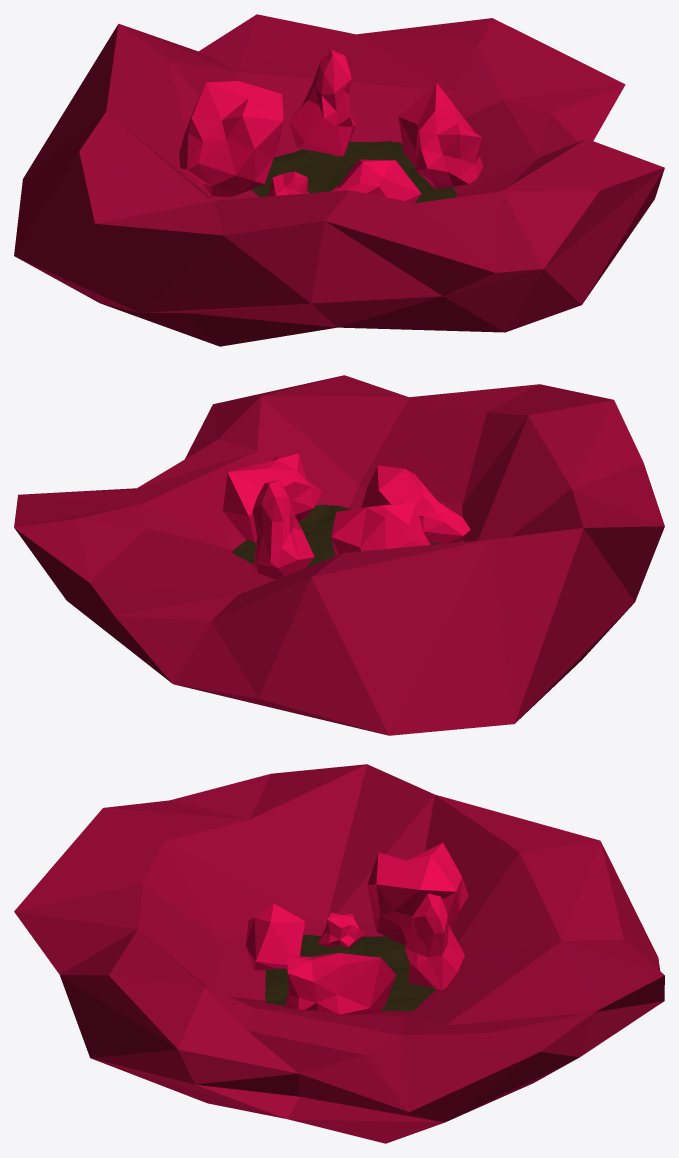
Rendered from stage1.fbx.
The picture shows the model from 3 angles, top to bottom: view 1: azimuth 30°, elevation 25°; view 2: azimuth 150°, elevation 25°; view 3: azimuth 270°, elevation 25°; orthographic projection. The views are drawn at different scales.
Visible parts, largest first — view 1: rock0outside, rock1, rock4, rock3, ground, rock2, rock5; view 2: rock0outside, rock4, rock3, rock1, rock2, ground; view 3: rock0outside, rock1, rock4, ground, rock3, rock2, rock5.
Boxes of the visible parts, left/top/right/bottom form: rock0outside: left=14, top=14, right=664, bottom=346; rock1: left=179, top=81, right=283, bottom=197; rock4: left=398, top=83, right=483, bottom=189; rock3: left=289, top=50, right=355, bottom=156; ground: left=251, top=141, right=456, bottom=203; rock2: left=330, top=159, right=421, bottom=202; rock5: left=268, top=171, right=308, bottom=196; rock0outside: left=14, top=375, right=664, bottom=735; rock4: left=223, top=453, right=321, bottom=542; rock3: left=252, top=480, right=314, bottom=579; rock1: left=331, top=502, right=430, bottom=555; rock2: left=361, top=465, right=470, bottom=543; ground: left=232, top=504, right=442, bottom=567; rock0outside: left=14, top=764, right=664, bottom=1143; rock1: left=367, top=843, right=468, bottom=944; rock4: left=285, top=953, right=396, bottom=1014; ground: left=265, top=934, right=436, bottom=1011; rock3: left=405, top=893, right=464, bottom=989; rock2: left=245, top=903, right=304, bottom=970; rock5: left=318, top=912, right=365, bottom=947.
Bounding box in the file's own units: 372624 × 117725 × 365676.
